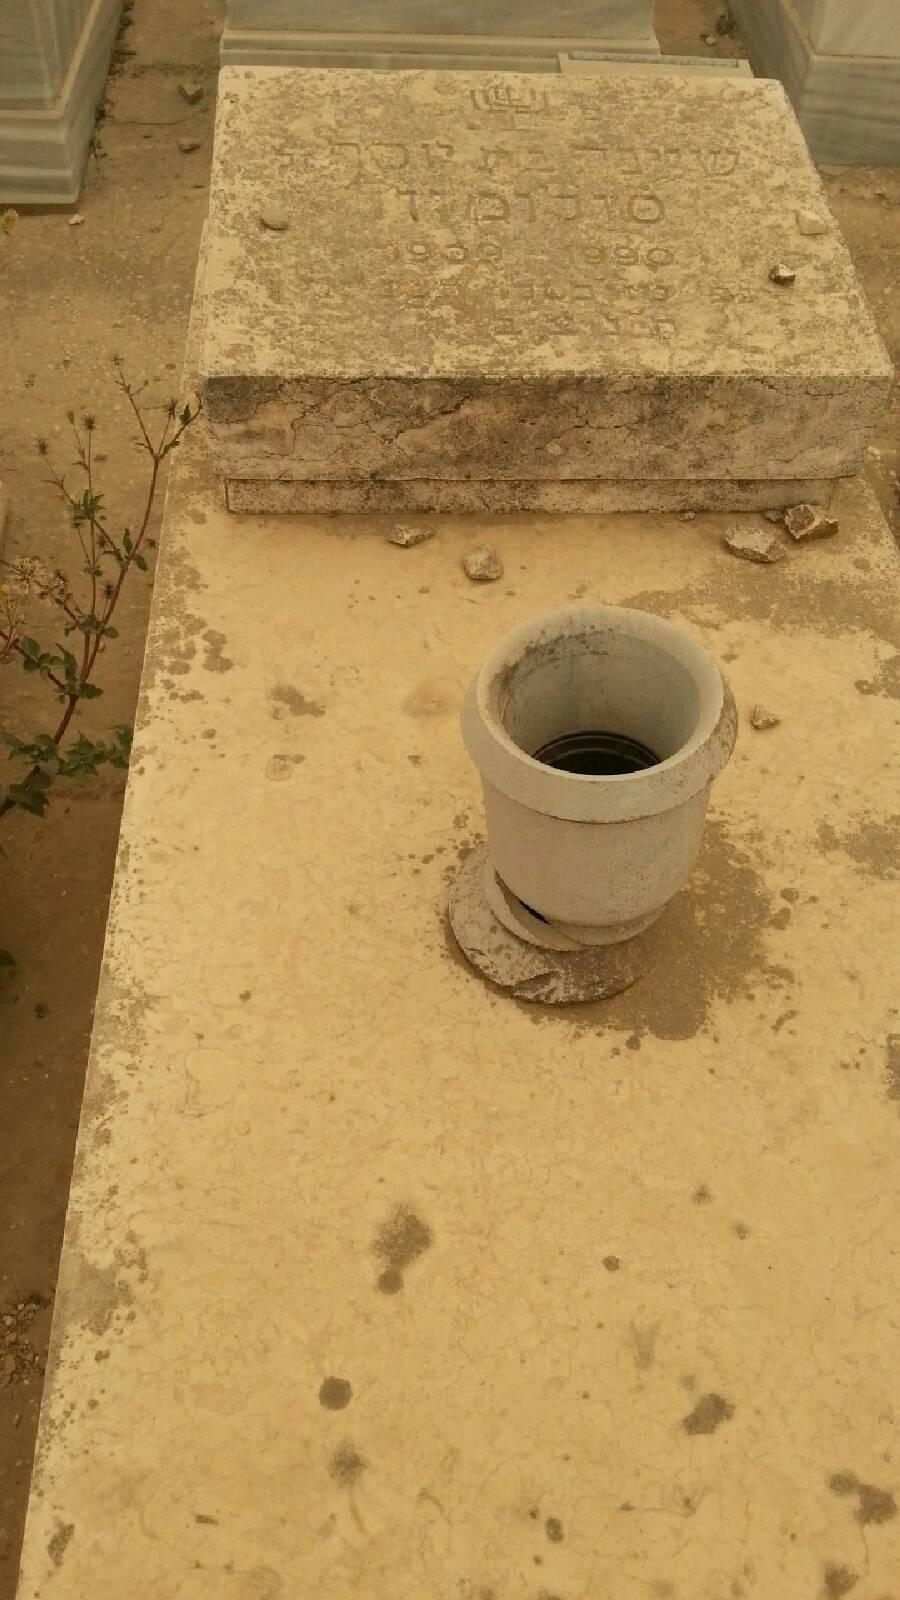vault: (0, 62, 900, 1592)
